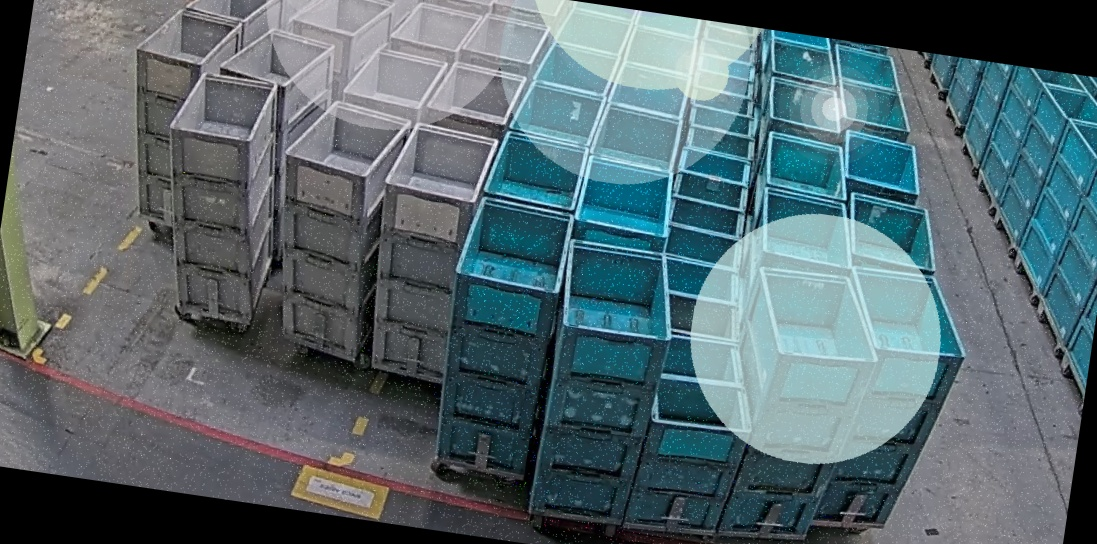4G: (256, 93, 414, 363), (143, 67, 300, 323), (357, 118, 500, 383), (112, 2, 246, 228)
B4: (710, 259, 891, 544), (812, 263, 980, 542), (528, 237, 685, 530), (426, 192, 578, 477)
B8: (618, 329, 766, 542)
